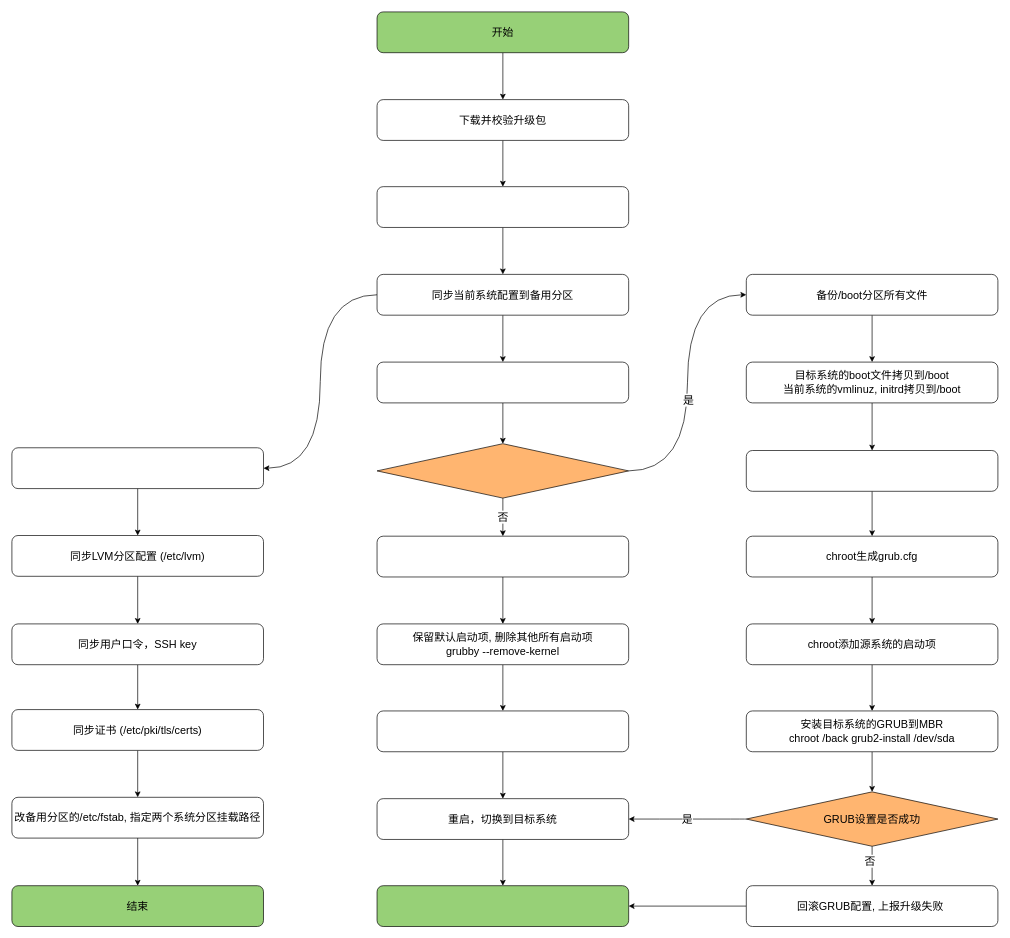
Image size: 1010x938. Some labels were removed from this diagram. The centre of each missing label's shape, as x and y in pixels:
升级结束: (502,906)
同步系统配置 (网卡, hostname, ntp): (137,468)
把/boot分区挂载到备用分区(/back/boot): (872,470)
添加备用分区的启动项，并设置为默认启动项 grubby --add-kernel, grubby --set-default: (502,731)
生成grub.cfg grub2-mkconfig -o /boot/grub2/grub.cfg: (502,556)
目标系统的GRUB版本高于当前系统?: (502,470)
禁用GRUB_OS_PROBER 设置GRUB_SAVEDEFAULT: (502,382)
解压升级包到备用分区(/back): (502,206)
